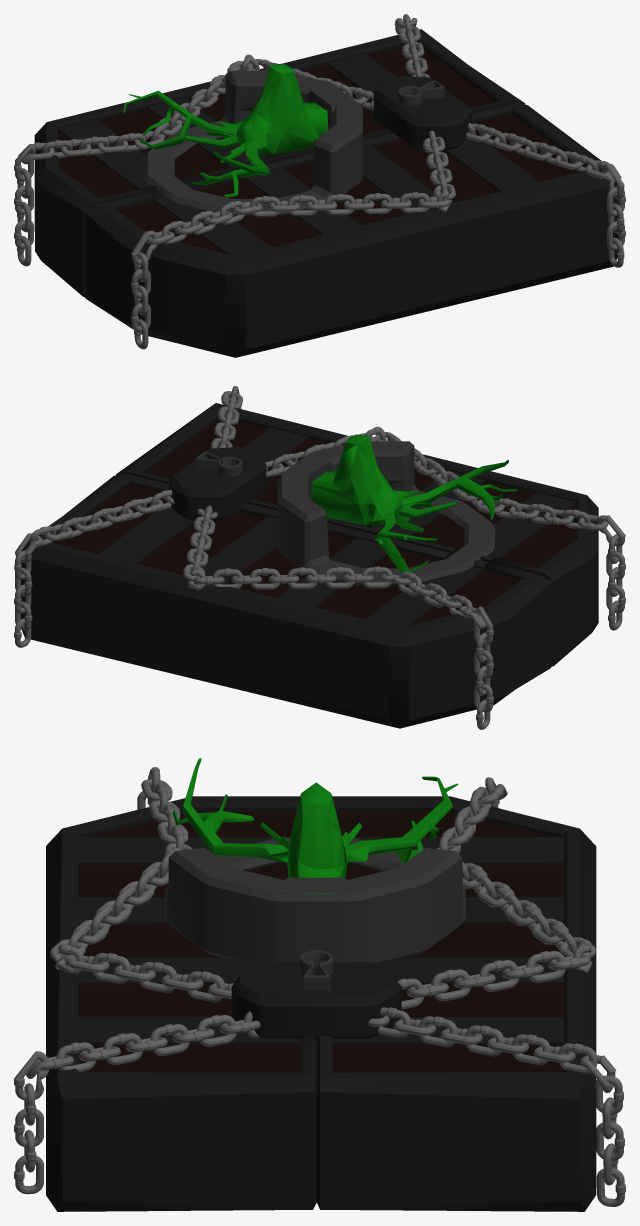
The model's file is porte_cerf.fbx.
3 views of the same model, one above another, from view 1: azimuth 30°, elevation 25°; view 2: azimuth 150°, elevation 25°; view 3: azimuth 270°, elevation 25° (orthographic). The views are drawn at different scales.
Visible parts, largest first — view 1: porte cerf; view 2: porte cerf; view 3: porte cerf.
Part boxes in pixels (<box>): porte cerf: <box>14,14,625,357</box>; porte cerf: <box>14,386,625,729</box>; porte cerf: <box>14,758,625,1211</box>.
Bounding box in the file's own units: 222 × 94.43 × 189.
